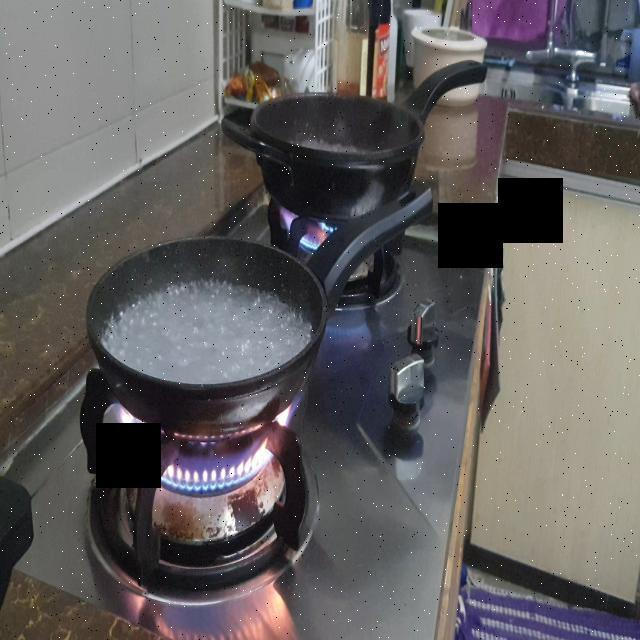Flame: (125, 418, 315, 501), (274, 203, 336, 253)
Pan: (81, 233, 369, 440), (245, 93, 433, 218)
